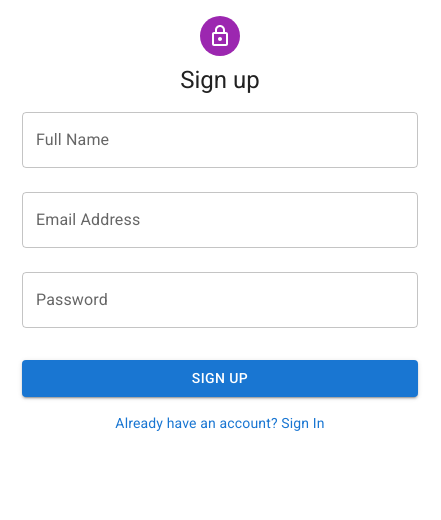
<Signup /> › renders error if values are missing or invalid
The width and height of the screenshot is (441, 520).
Click the button "Sign Up": (220, 378) left=22, top=360, right=418, bottom=396
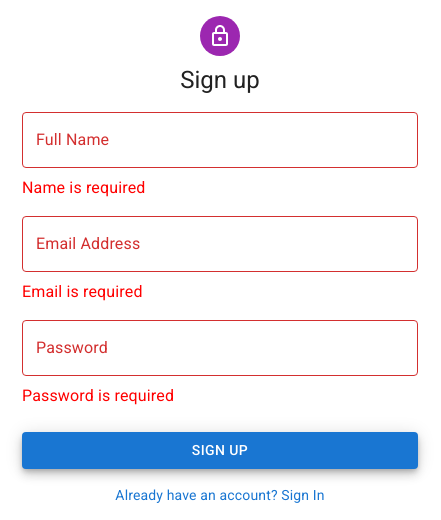
Now the text "Name is required" is shown, box left=22, top=178, right=146, bottom=197
Now the text "Email is required" is shown, box left=22, top=282, right=143, bottom=301
Now the text "Password is required" is shown, box left=22, top=386, right=174, bottom=405
In the field labelled "Email Address": (220, 244) left=22, top=216, right=418, bottom=272, type "email"
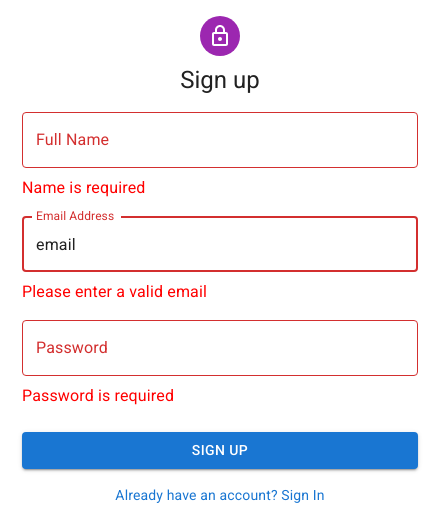
Now the text "Please enter a valid email" is shown, box left=22, top=282, right=207, bottom=301
